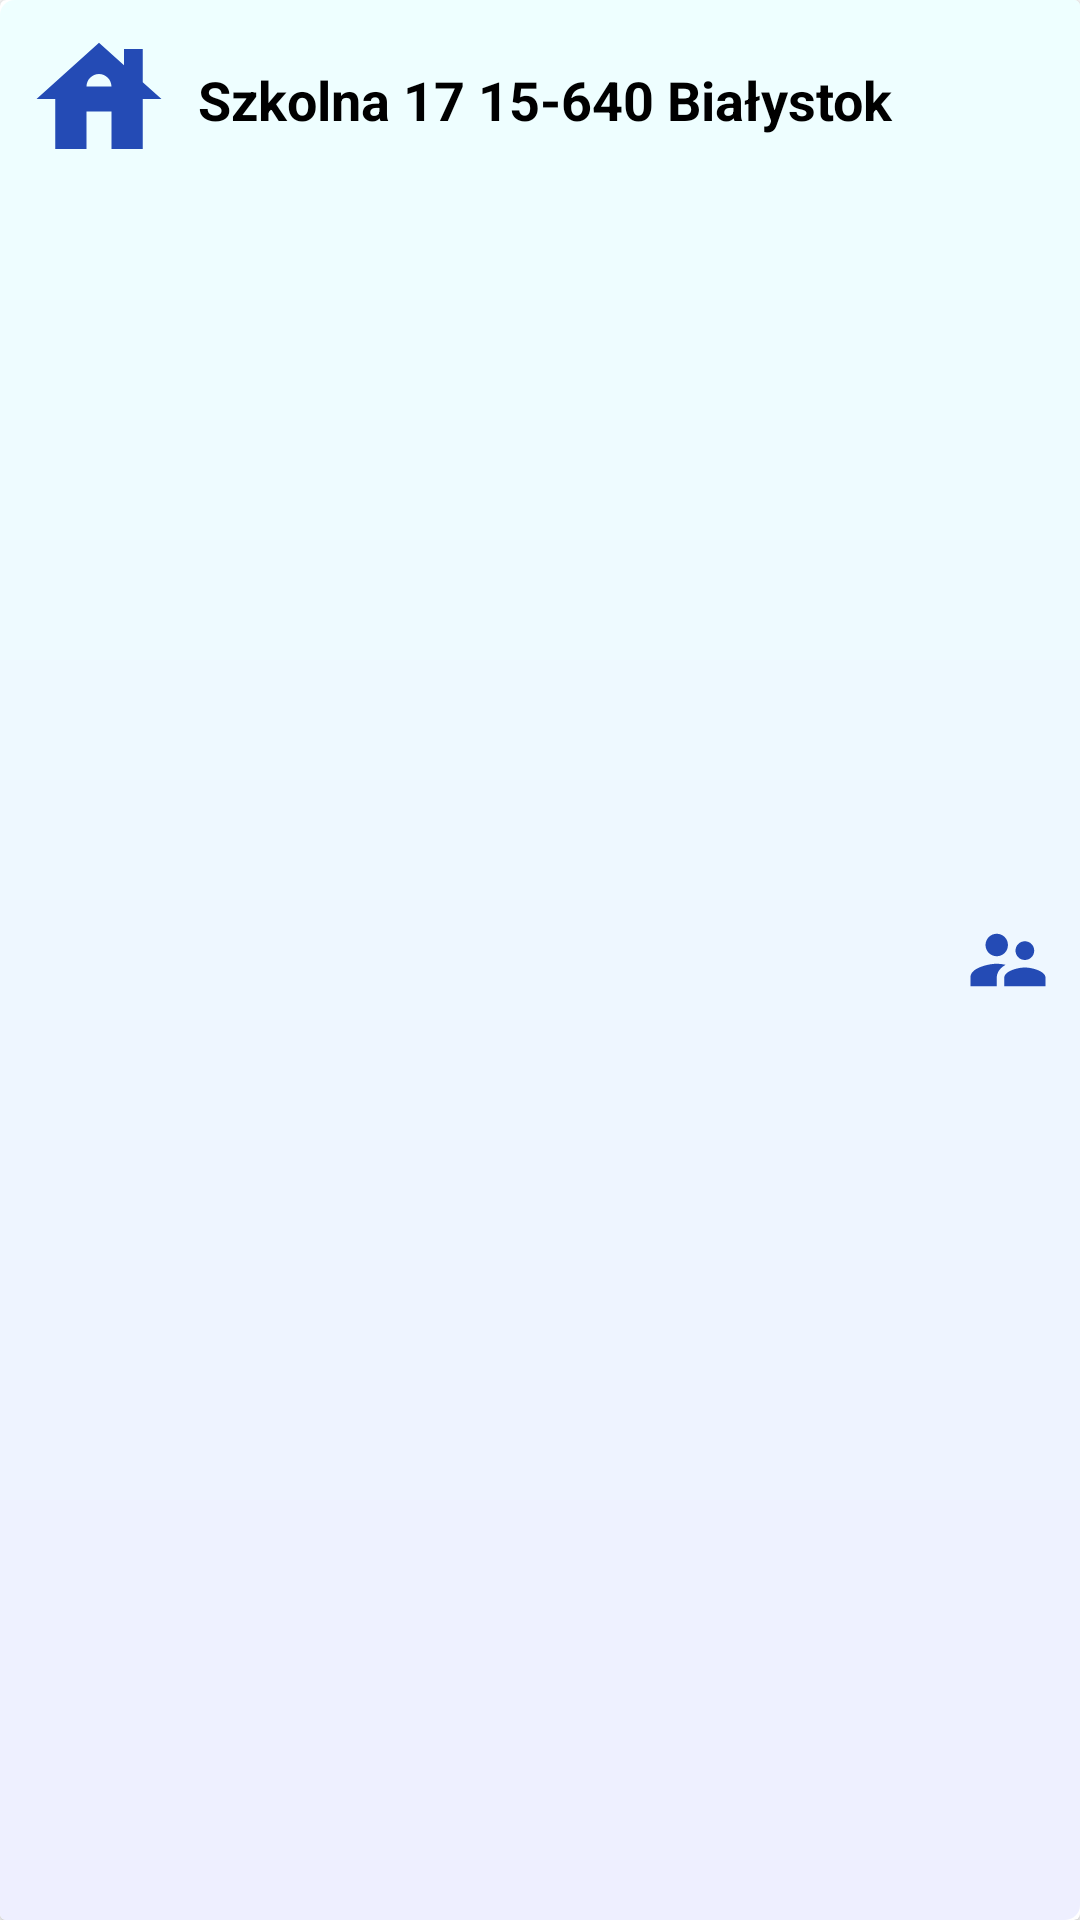

Locate icon controls on the screen. Image size 1080 × 1920, boxes as (x1, y1, x2, y2).
house: (37, 43, 161, 149)
supervisor account: (970, 933, 1046, 987)
